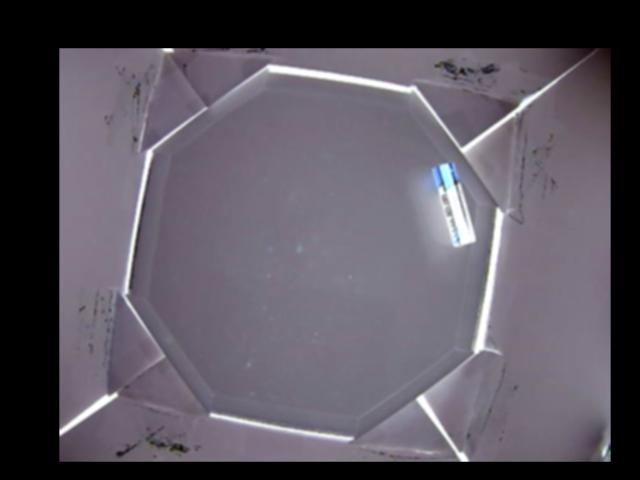Battery: (429, 161, 477, 244)
